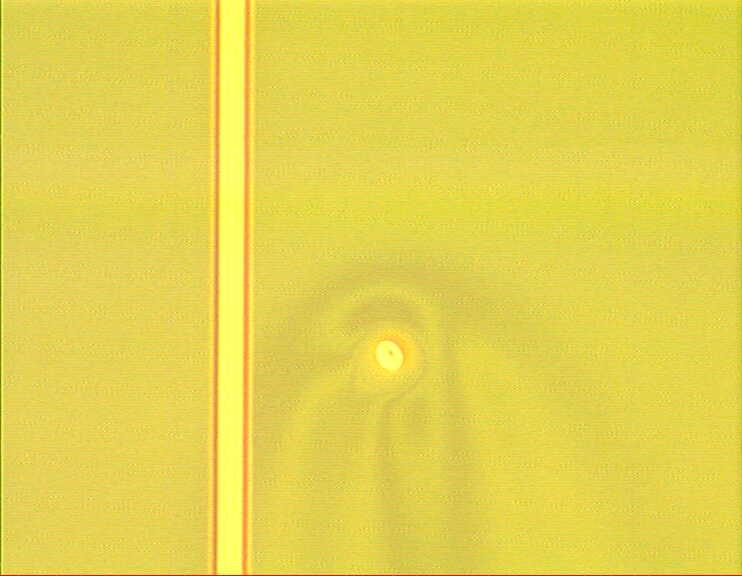PIQ PARTICLE: (371, 339, 410, 377)
